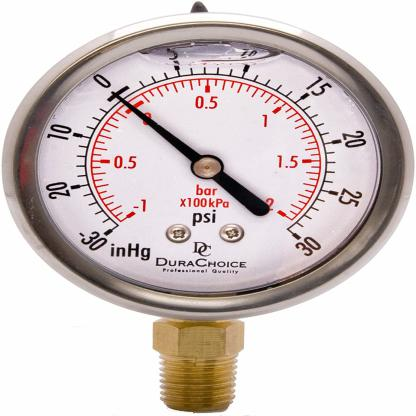needle: (109, 90, 202, 162)
